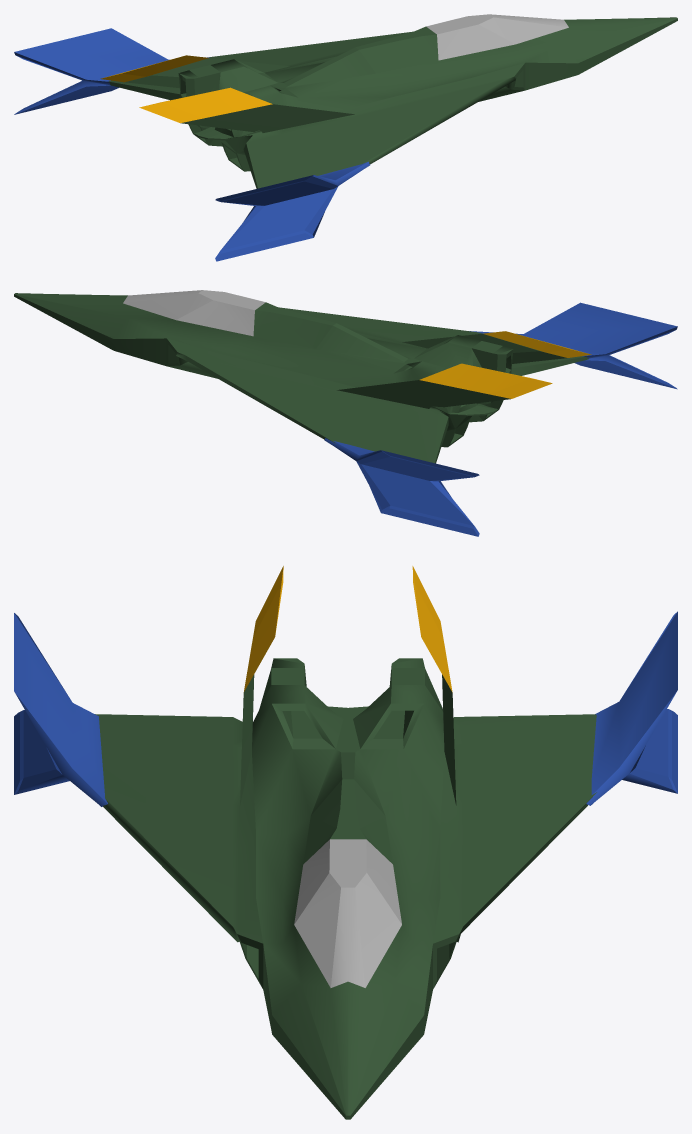
The model's file is Racecraft.2.fbx.
3 renders of one model, top to bottom at view 1: azimuth 30°, elevation 25°; view 2: azimuth 150°, elevation 25°; view 3: azimuth 270°, elevation 25°, orthographic. The views are drawn at different scales.
Visible parts, largest first — view 1: Racecraft; view 2: Racecraft; view 3: Racecraft.
Boxes of the visible parts, left/top/right/bottom form: Racecraft: left=14, top=14, right=677, bottom=261; Racecraft: left=14, top=290, right=677, bottom=536; Racecraft: left=14, top=566, right=677, bottom=1119.
Bounding box in the file's own units: 1298 × 206 × 802.
